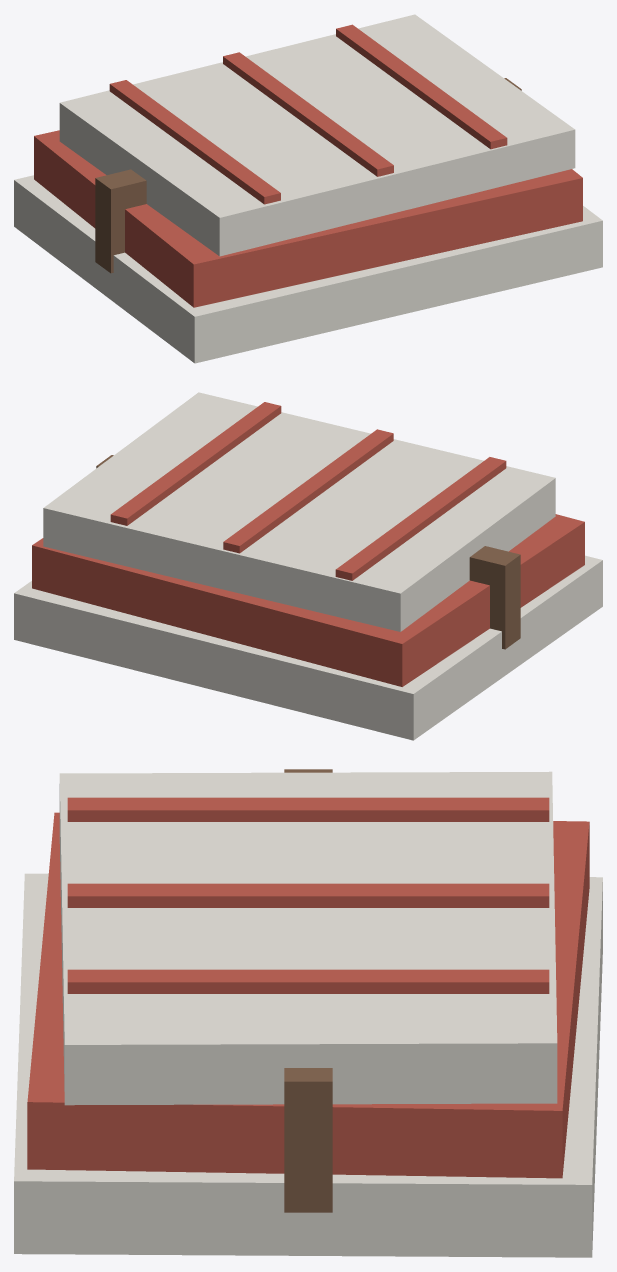
The model's file is saddle_blanket.glb.
3 views of the same model, one above another, from view 1: azimuth 30°, elevation 25°; view 2: azimuth 150°, elevation 25°; view 3: azimuth 270°, elevation 25° (orthographic). The views are drawn at different scales.
Parts seen in each view (by area): view 1: saddle_blanket; view 2: saddle_blanket; view 3: saddle_blanket.
Boxes of the visible parts, x1,y1,x2,y2 form: saddle_blanket: [14, 14, 602, 363]; saddle_blanket: [14, 392, 602, 740]; saddle_blanket: [14, 769, 602, 1257].
Size of the model in its own units: 0.69 by 0.2185 by 0.55.
